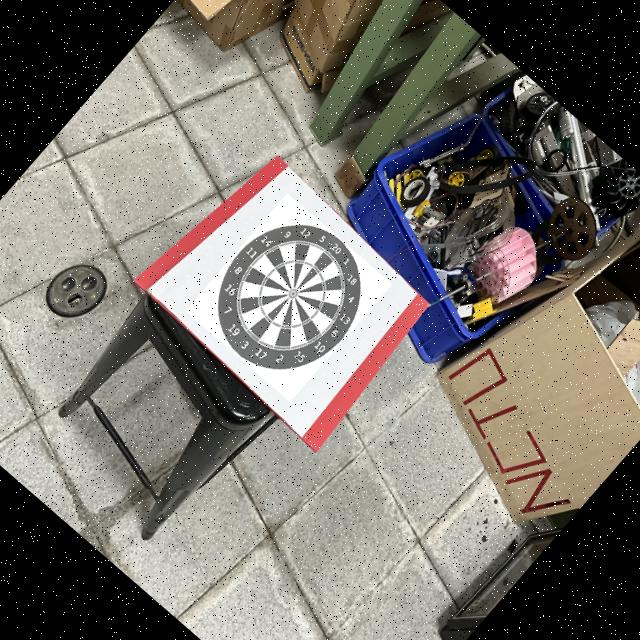archery-targets: (185, 194, 392, 402)
